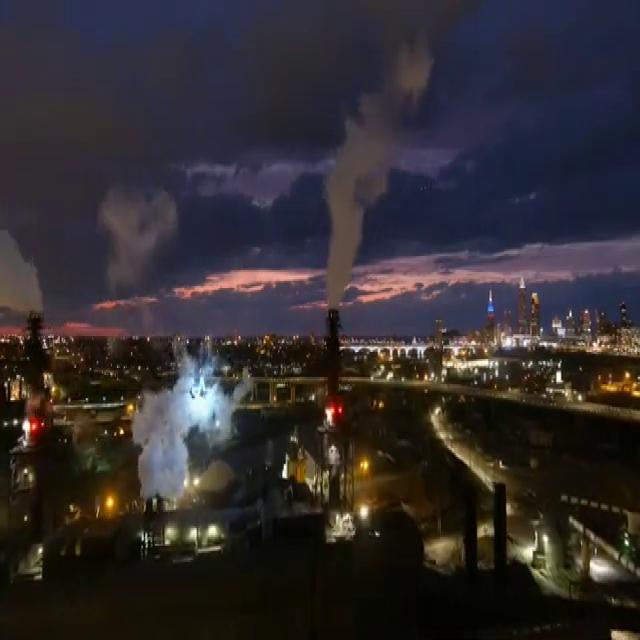smoke: (325, 36, 433, 313), (140, 338, 249, 508), (0, 220, 47, 318)
